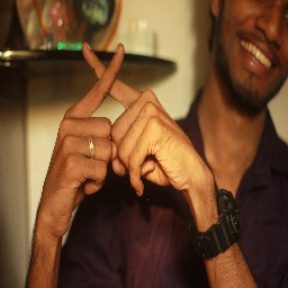X: (61, 35, 161, 148)
